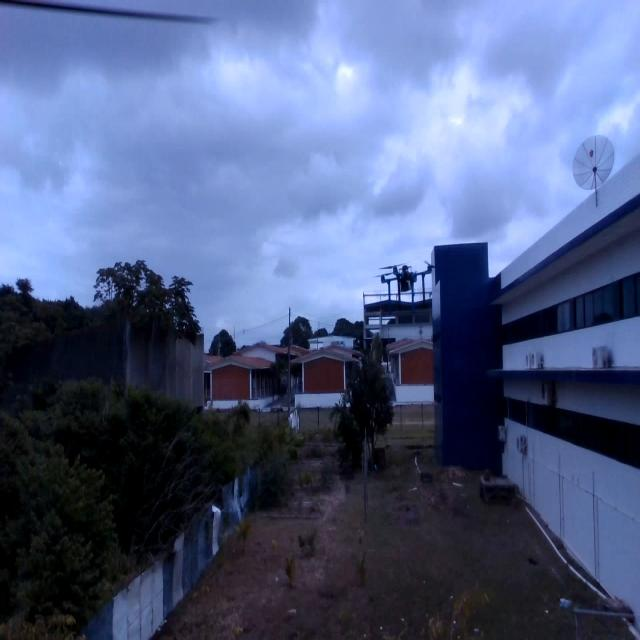-uav-: (376, 249, 446, 329)
